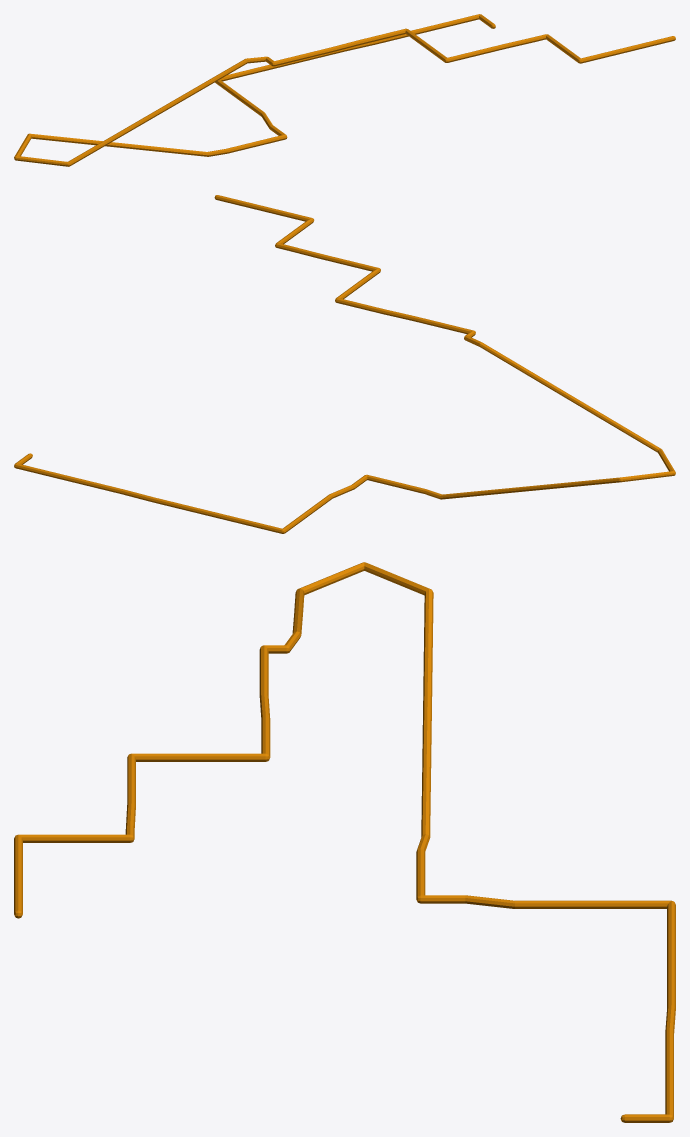
The picture shows the model from 3 angles, top to bottom: view 1: azimuth 30°, elevation 25°; view 2: azimuth 150°, elevation 25°; view 3: azimuth 270°, elevation 25°; orthographic projection. The views are drawn at different scales.
Bounding box in the file's own units: 2406 × 520 × 1480.
